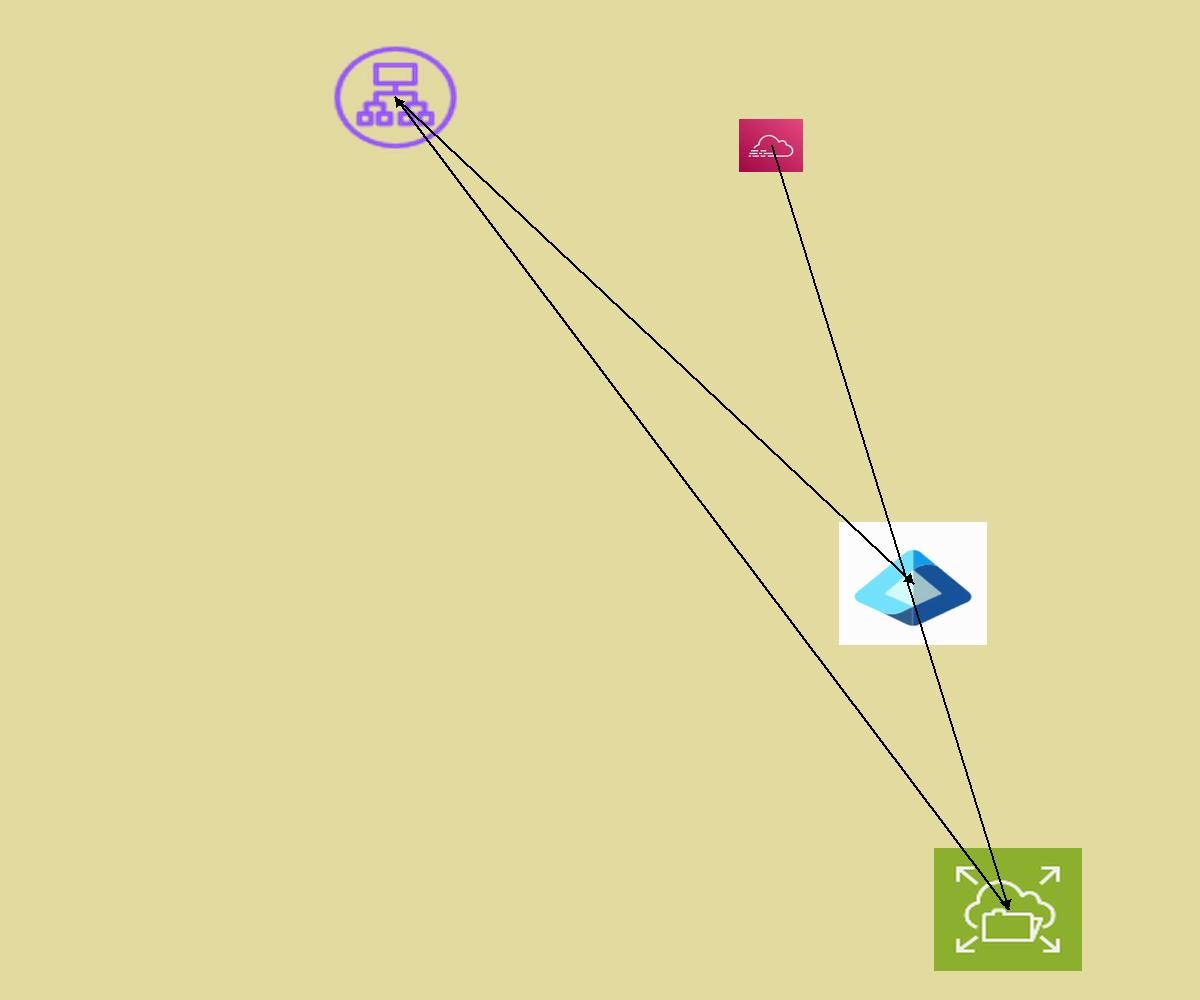AWS-CloudTrail: (739, 119, 803, 172)
AWS-EFS: (934, 848, 1082, 971)
AWS-Res_Elastic-Load-Balancing_Application-Load-Balancer: (329, 42, 462, 153)
Azure_microsoft_entra: (839, 522, 987, 645)
